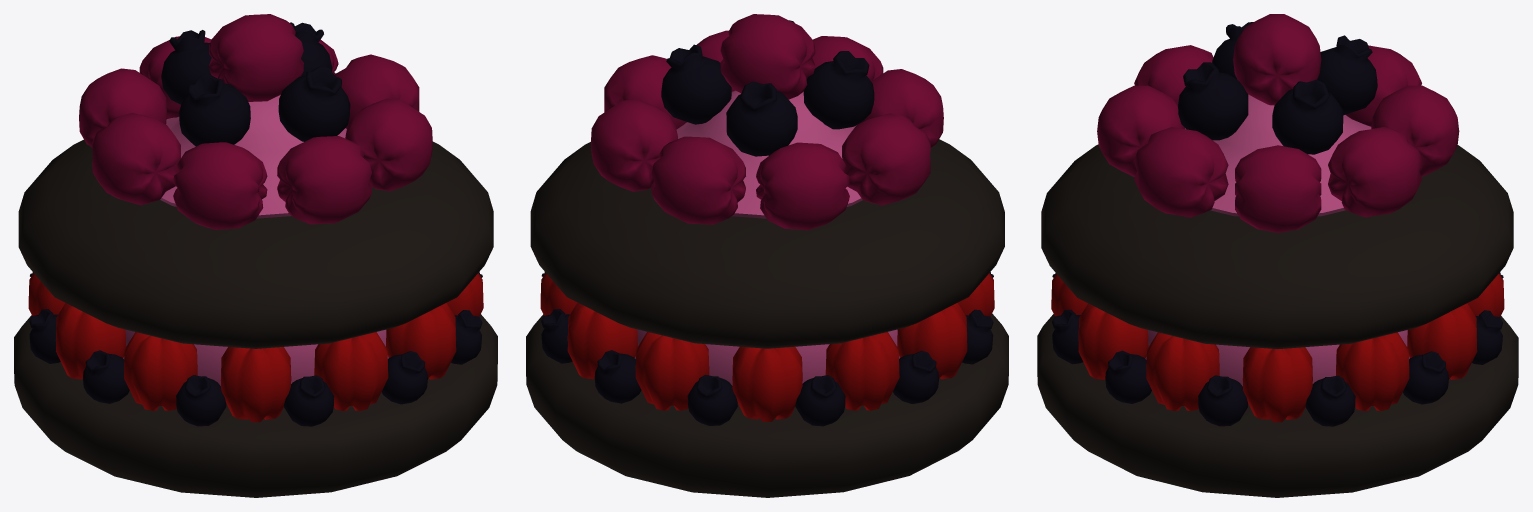
Rendered from Pastry_1.FBX.
The picture shows the model from 3 angles, left to right: view 1: azimuth 30°, elevation 25°; view 2: azimuth 150°, elevation 25°; view 3: azimuth 270°, elevation 25°; orthographic projection.
Parts seen in each view (by area): view 1: Pastry_1; view 2: Pastry_1; view 3: Pastry_1.
Boxes of the visible parts, x1,y1,x2,y2 form: Pastry_1: (14, 14, 497, 497); Pastry_1: (526, 14, 1008, 497); Pastry_1: (1037, 14, 1518, 497).
Size of the model in its own units: 1021 by 1005 by 910.
